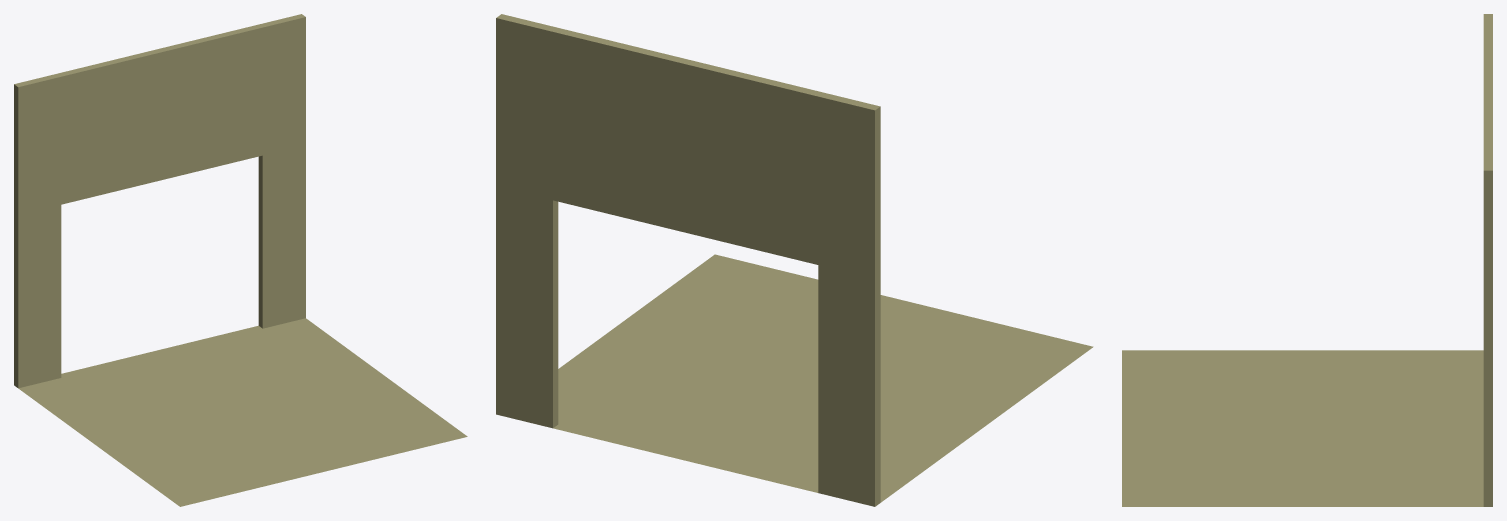
Rendered from HpolyFacWallGDoor01.glb.
3 renders of one model, left to right at view 1: azimuth 30°, elevation 25°; view 2: azimuth 150°, elevation 25°; view 3: azimuth 270°, elevation 25°, orthographic. The views are drawn at different scales.
Parts seen in each view (by area): view 1: HpolyFacWallGDoor01-col; view 2: HpolyFacWallGDoor01-col; view 3: HpolyFacWallGDoor01-col.
Boxes of the visible parts, x1=… form: HpolyFacWallGDoor01-col: x1=14, y1=14, x2=467, y2=506; HpolyFacWallGDoor01-col: x1=496, y1=14, x2=1093, y2=506; HpolyFacWallGDoor01-col: x1=1122, y1=14, x2=1492, y2=506.
Bounding box in the file's own units: 4 × 4 × 4.
